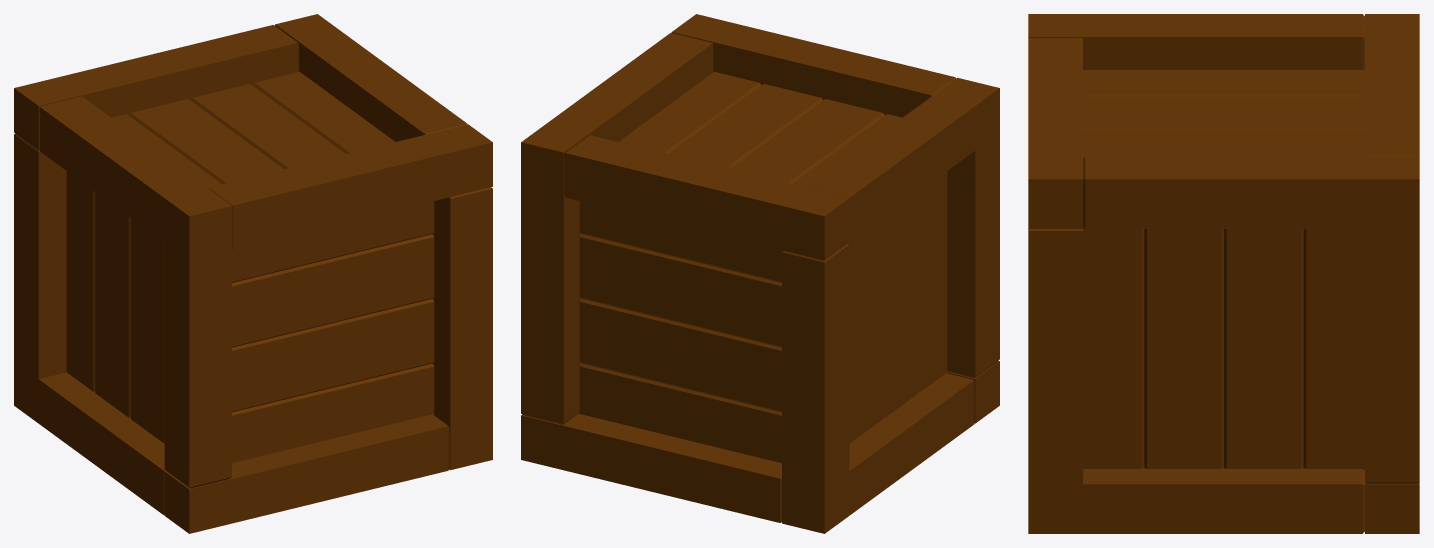
Rendered from Proto_Wooden_Crate_01.fbx.
3 renders of one model, left to right at view 1: azimuth 30°, elevation 25°; view 2: azimuth 150°, elevation 25°; view 3: azimuth 270°, elevation 25°, orthographic. The views are drawn at different scales.
Parts seen in each view (by area): view 1: Proto_Wooden_Crate_01; view 2: Proto_Wooden_Crate_01; view 3: Proto_Wooden_Crate_01.
Part boxes in pixels (x1,y1,x2,y2): Proto_Wooden_Crate_01: (14,14,492,533); Proto_Wooden_Crate_01: (521,14,999,533); Proto_Wooden_Crate_01: (1028,14,1419,533).
Bounding box in the file's own units: 0.5 × 0.5 × 0.5.
